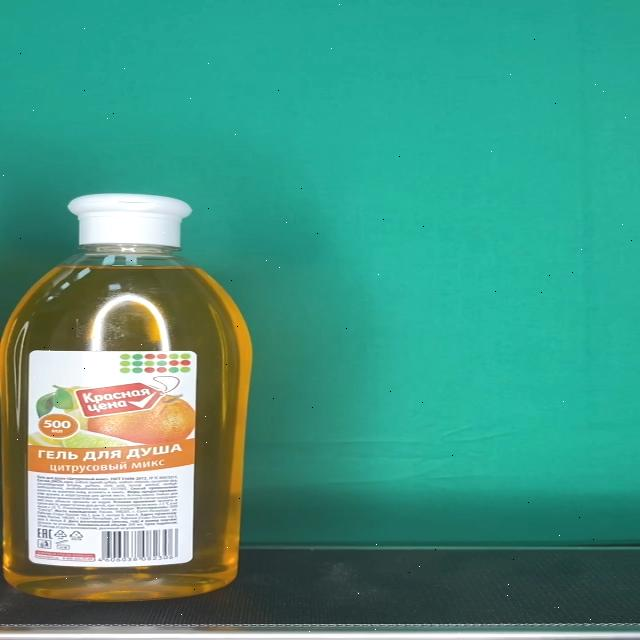Bottle: (0, 192, 254, 602)
Cap: (69, 194, 192, 247)
